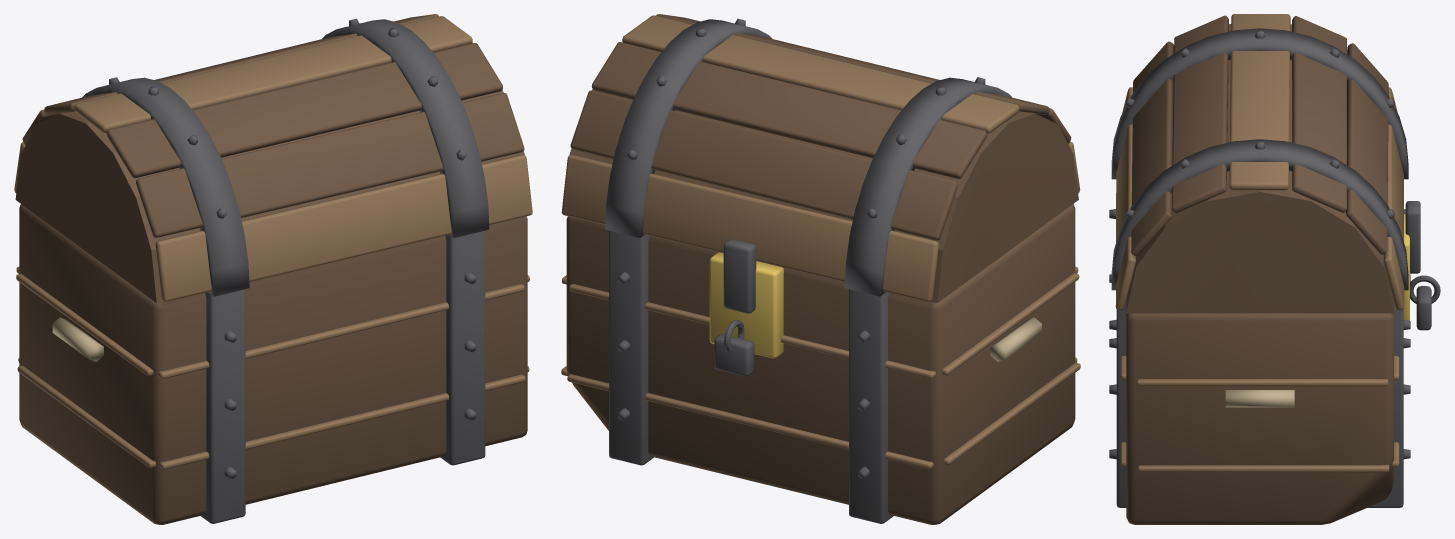
The model's file is chest_closed.ec5804cf.glb.
3 renders of one model, left to right at view 1: azimuth 30°, elevation 25°; view 2: azimuth 150°, elevation 25°; view 3: azimuth 270°, elevation 25°, orthographic. The views are drawn at different scales.
Parts seen in each view (by area): view 1: chest_closed; view 2: chest_closed; view 3: chest_closed.
Part boxes in pixels (x1,y1,x2,y2): chest_closed: (14,14,532,524); chest_closed: (561,14,1080,524); chest_closed: (1109,14,1440,524).
Size of the model in its own units: 1.03 by 0.916 by 0.7673.
